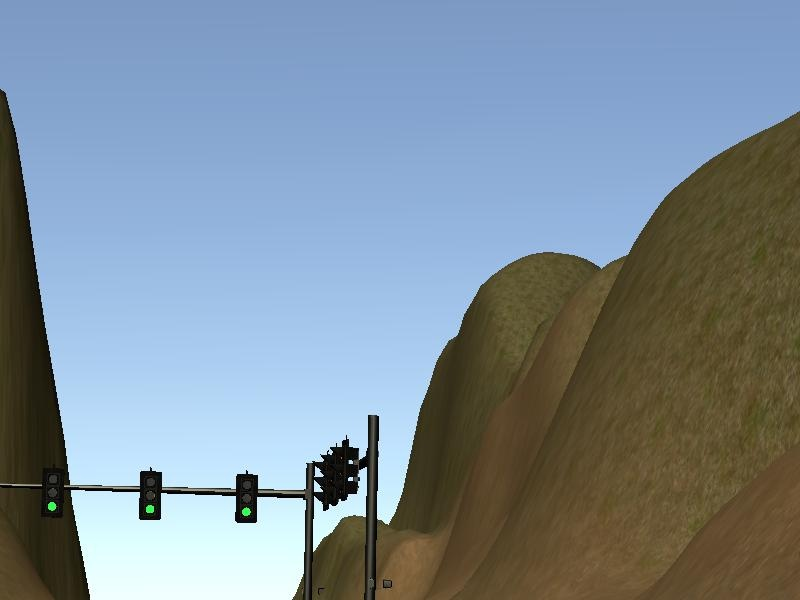GREEN: (234, 475, 259, 524), (137, 471, 161, 521), (42, 469, 64, 517)
